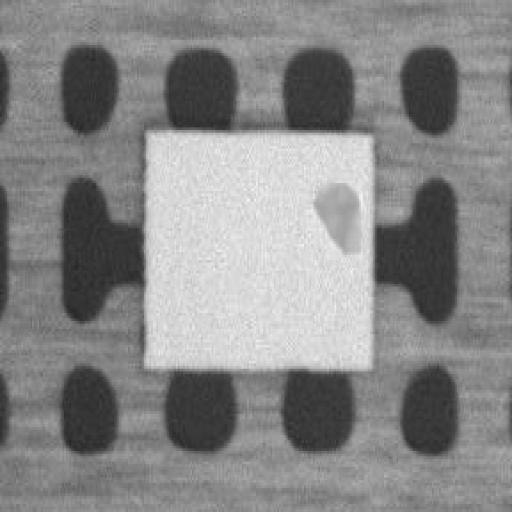DIE_INK: (311, 175, 361, 249)
